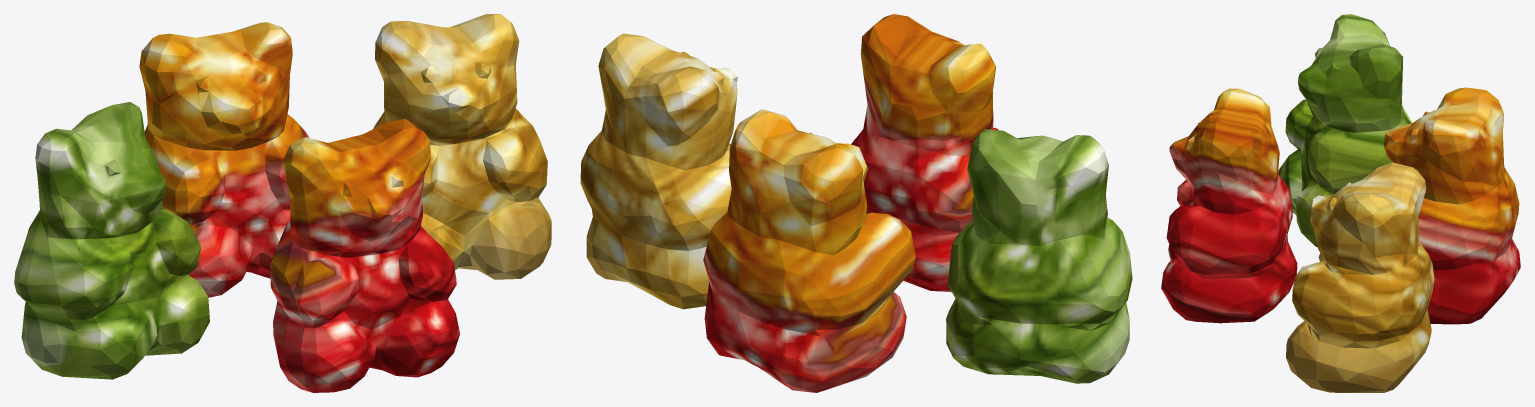
Rendered from HariboO.fbx.
3 renders of one model, left to right at view 1: azimuth 30°, elevation 25°; view 2: azimuth 150°, elevation 25°; view 3: azimuth 270°, elevation 25°, orthographic. The views are drawn at different scales.
Parts seen in each view (by area): view 1: Mesh1.0; view 2: Mesh1.0; view 3: Mesh1.0.
Boxes of the visible parts, bbox=[...] form: Mesh1.0: bbox=[14, 14, 551, 392]; Mesh1.0: bbox=[580, 14, 1132, 392]; Mesh1.0: bbox=[1161, 14, 1520, 392].
Bounding box in the file's own units: 189 × 81.24 × 136.
Materials: 1 (1 with a texture image).
